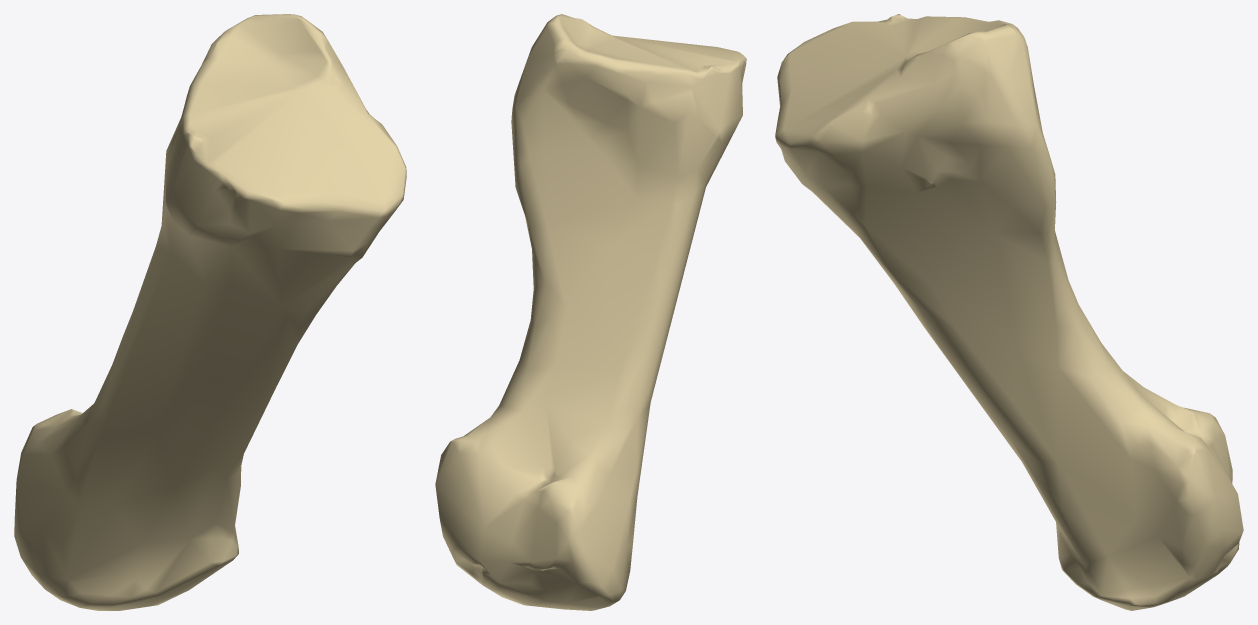
3 renders of one model, left to right at view 1: azimuth 30°, elevation 25°; view 2: azimuth 150°, elevation 25°; view 3: azimuth 270°, elevation 25°, orthographic. The views are drawn at different scales.
Parts seen in each view (by area): view 1: 左侧第一跖骨; view 2: 左侧第一跖骨; view 3: 左侧第一跖骨.
Part boxes in pixels (bbox=[...]): 左侧第一跖骨: bbox=[14, 14, 406, 610]; 左侧第一跖骨: bbox=[435, 14, 746, 610]; 左侧第一跖骨: bbox=[775, 14, 1243, 610].
Size of the model in its own units: 0.0322 by 0.0937 by 0.0661.
